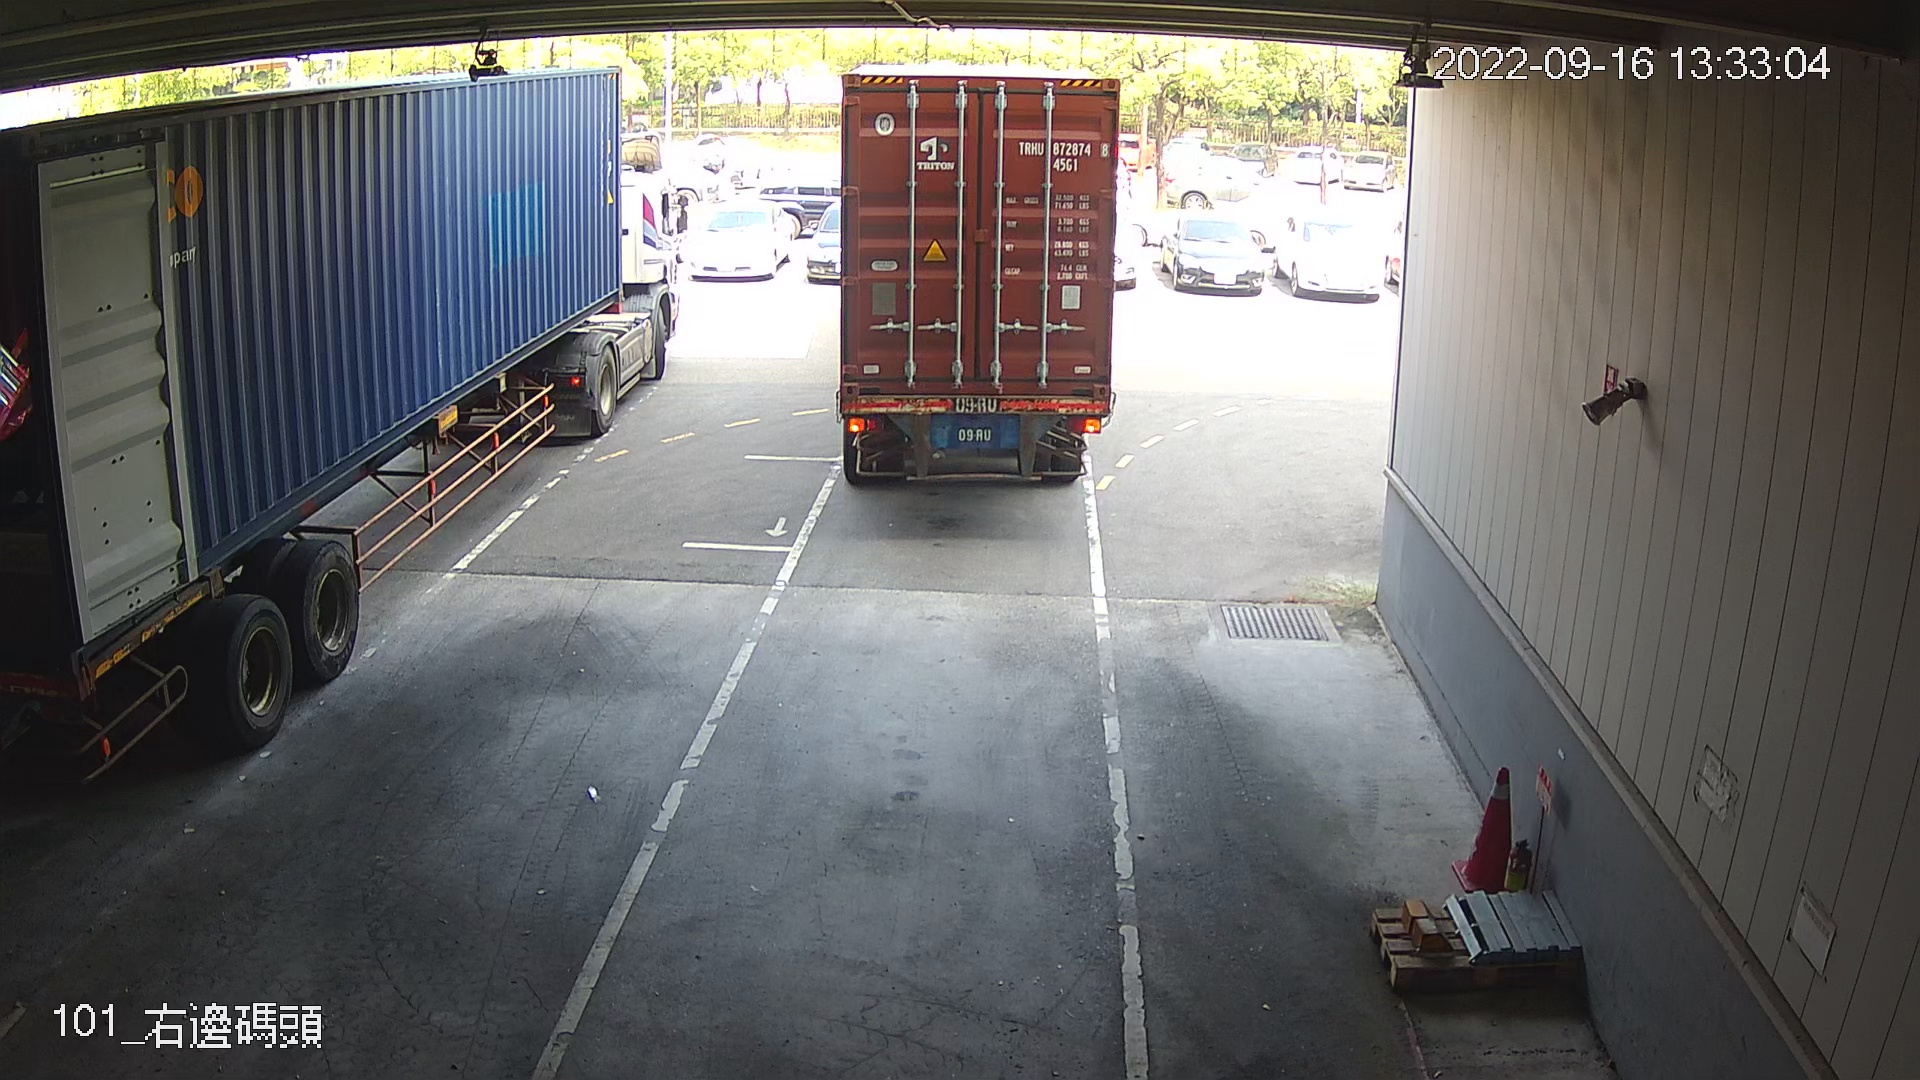container: (1010, 131, 1112, 179)
